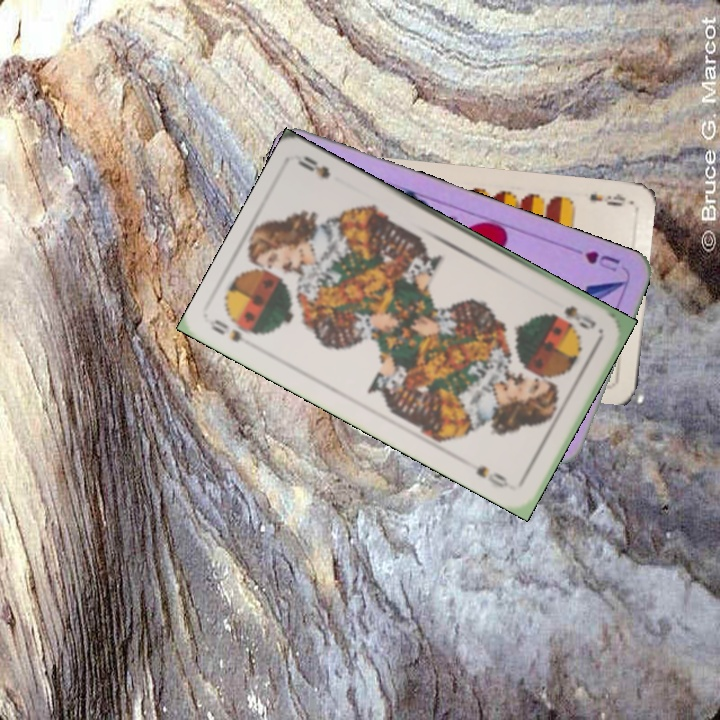E9: (586, 189, 628, 209)
HU: (580, 247, 623, 275)
SO: (560, 301, 599, 333), (206, 315, 245, 345)
